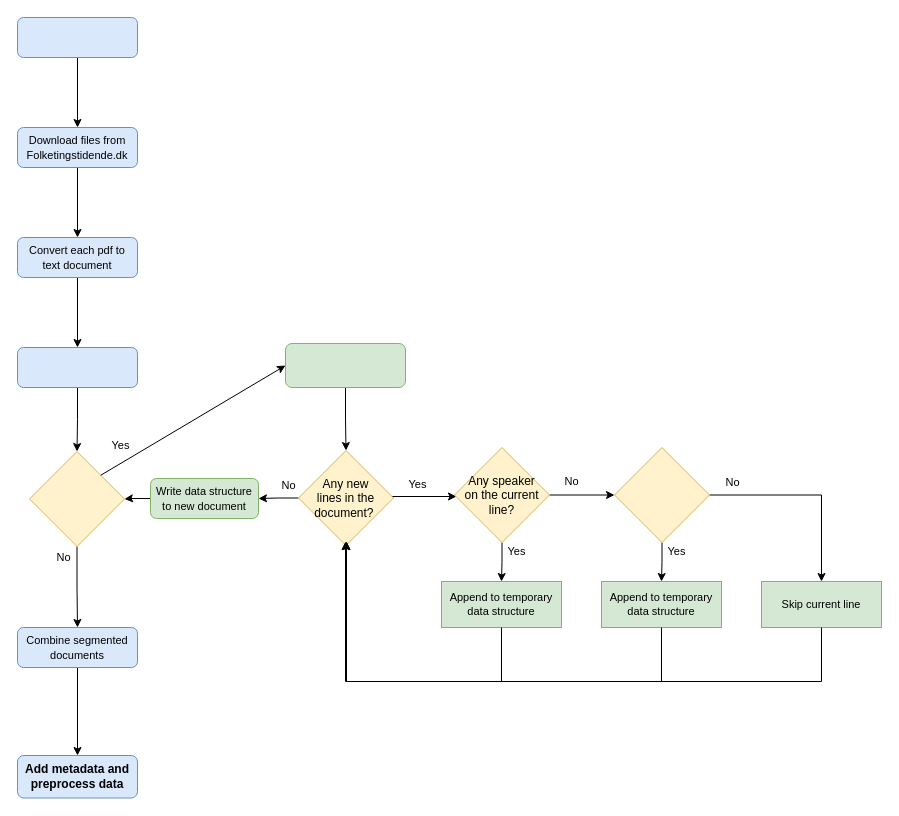
Image size: 899x816. Some labels were removed from this diagram. The shapes that lost their labels are listed below. From the top down, each one's centre as x and y in pixels, then its label:
point (77, 37): Get URL of all pdfs
point (77, 367): Segmentation of text documents
point (345, 365): Segment next text document in list
point (76, 498): Any non- segmented text documents?
point (662, 494): Does other regex-rules match?
